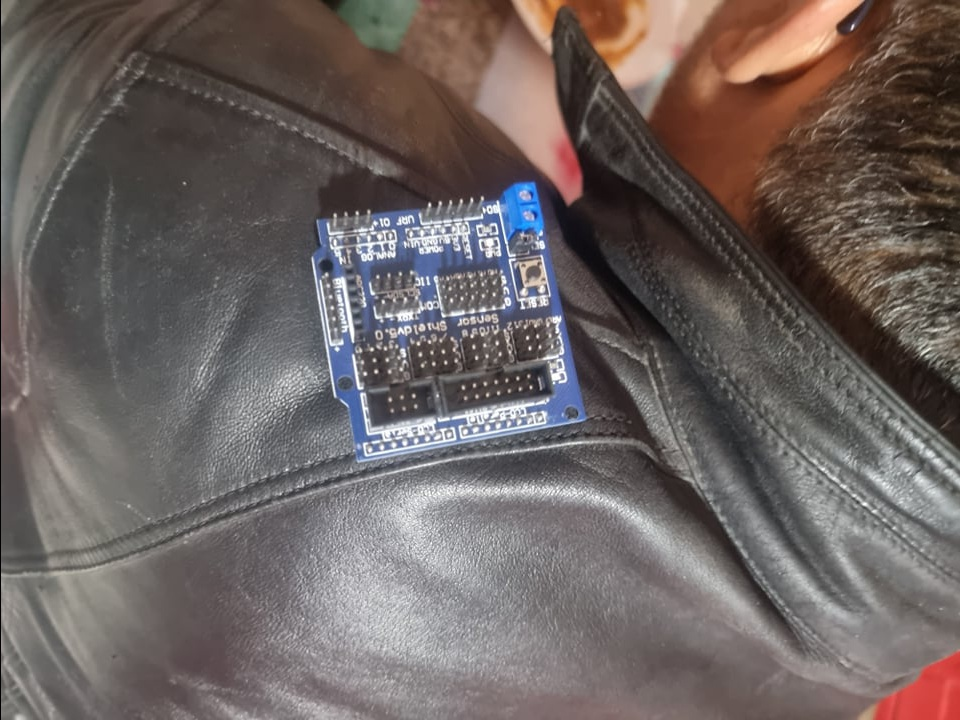5V EXPANSION: (310, 179, 590, 466)
